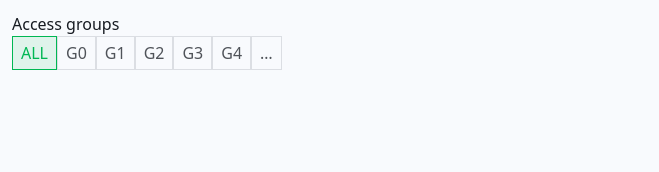
Test case: FilterChips › keeps a selected option beyond the first 5 visible when collapsed
Click the button named "more access groups". click: [266, 53]
box: x1=251 y1=36 x2=282 y2=70
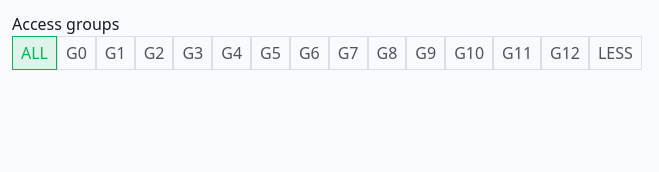
Click the button "g9". click: [426, 53]
box: x1=406 y1=36 x2=445 y2=70
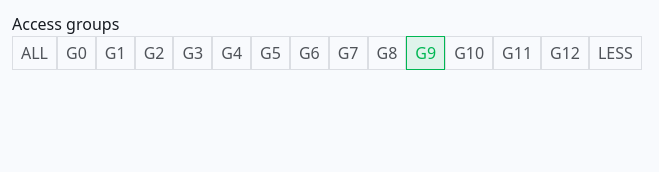
Click the button with aria-label "Show fewer access groups". click: [615, 53]
box: x1=589 y1=36 x2=642 y2=70
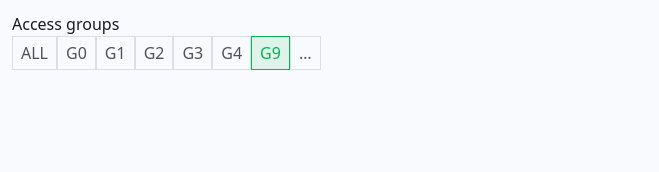
Expected: the button named "Show 7 more access groups" is shown, x1=290 y1=36 x2=321 y2=70
